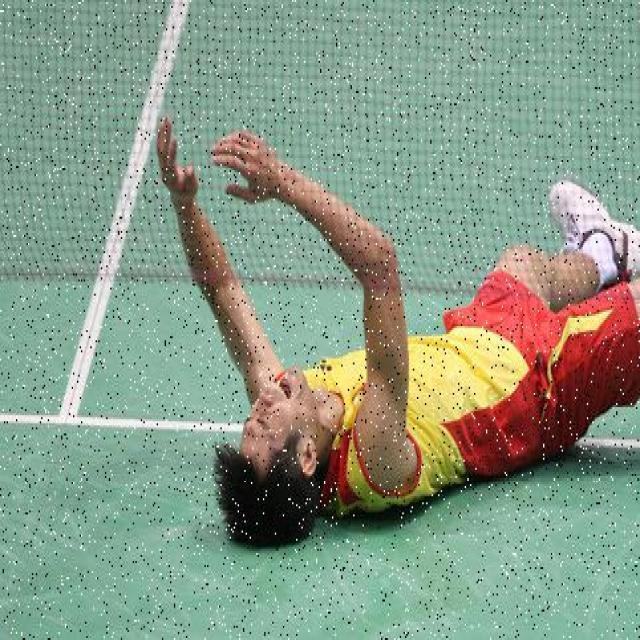fall: (195, 148, 639, 545)
